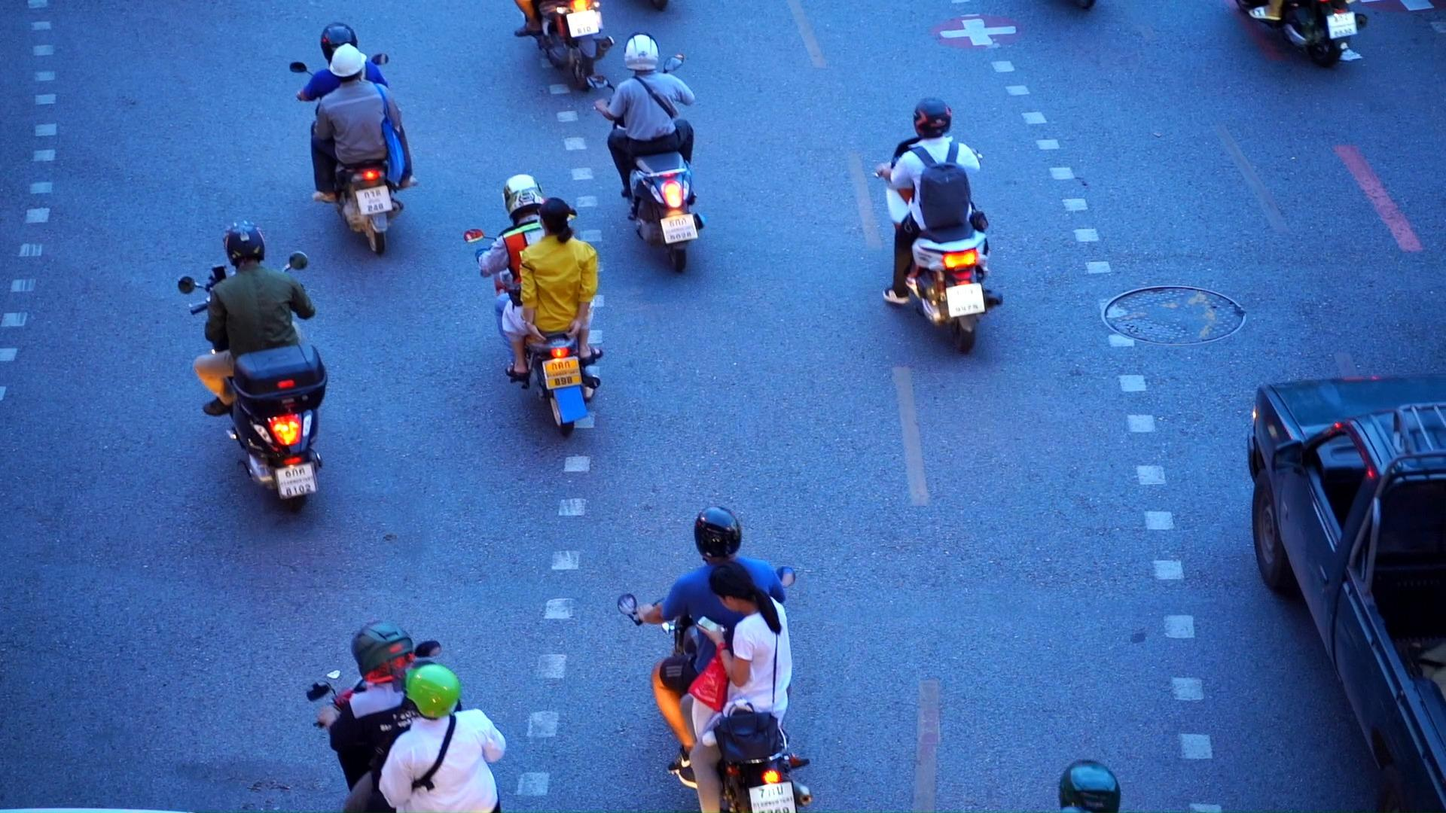driver: (615, 505, 813, 813), (179, 219, 329, 515), (307, 619, 509, 813), (464, 172, 605, 436), (871, 96, 1004, 356), (289, 21, 420, 255), (586, 32, 707, 274), (513, 0, 614, 93), (1235, 0, 1369, 70)
helmet: (393, 660, 462, 721), (351, 619, 413, 685), (1058, 760, 1121, 813), (695, 506, 742, 562), (501, 173, 545, 223), (223, 219, 266, 267), (320, 21, 358, 66), (913, 96, 952, 139), (330, 43, 367, 83), (624, 32, 660, 71)
no-helmet: (709, 563, 779, 614), (536, 197, 574, 245)
